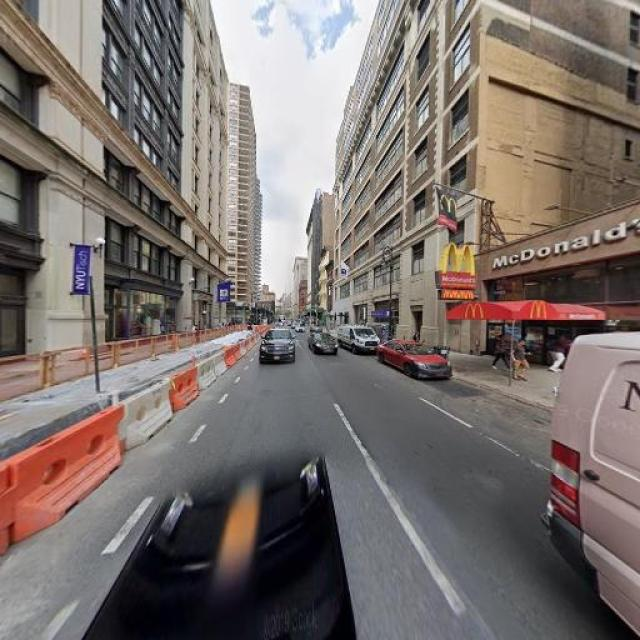Building: (337, 1, 479, 357), (87, 1, 227, 360), (1, 1, 82, 379), (484, 203, 640, 390)
